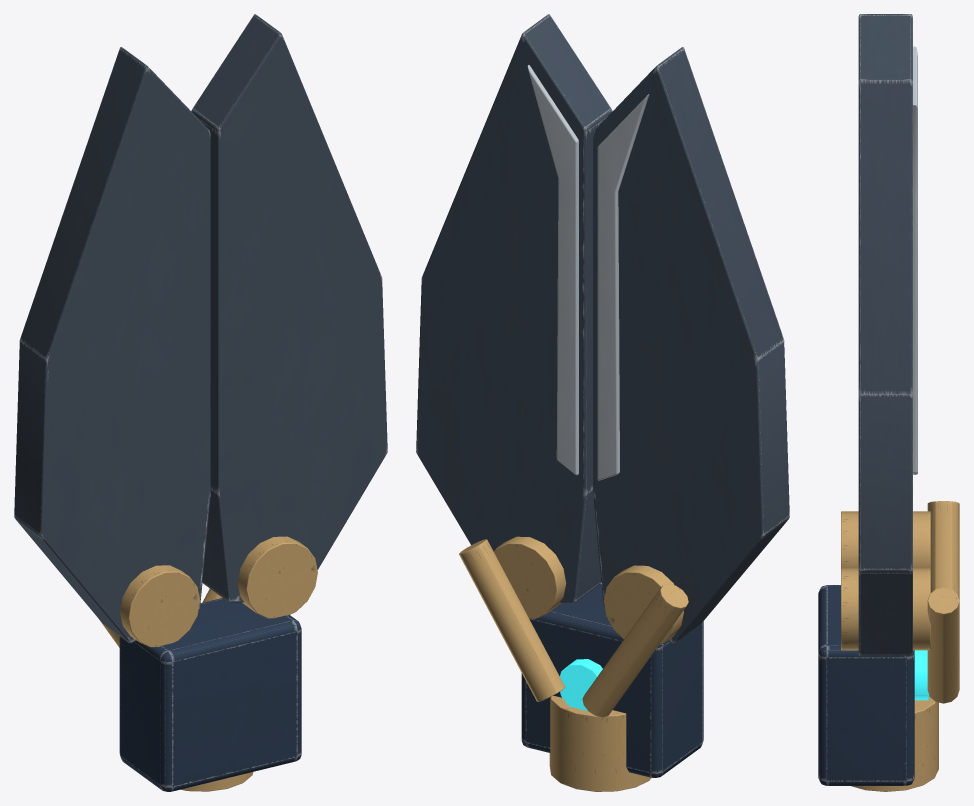
The model's file is broad_cutter.glb.
3 renders of one model, left to right at view 1: azimuth 30°, elevation 25°; view 2: azimuth 150°, elevation 25°; view 3: azimuth 270°, elevation 25°, orthographic.
Visible parts, largest first — view 1: broad_cutter__forged_jaw_neg1, broad_cutter__forged_jaw_1, broad_cutter__saddle, broad_cutter__jaw_axle_1, broad_cutter__jaw_axle_neg1; view 2: broad_cutter__forged_jaw_neg1, broad_cutter__forged_jaw_1, broad_cutter__saddle, broad_cutter__honed_edge_neg1, broad_cutter__honed_edge_1, broad_cutter__power_collar, broad_cutter__drive_link_1, broad_cutter__drive_link_neg1, broad_cutter__jaw_axle_1, broad_cutter__jaw_axle_neg1, broad_cutter__core; view 3: broad_cutter__forged_jaw_1, broad_cutter__saddle, broad_cutter__forged_jaw_neg1, broad_cutter__drive_link_1, broad_cutter__jaw_axle_1, broad_cutter__drive_link_neg1, broad_cutter__power_collar, broad_cutter__jaw_axle_neg1, broad_cutter__honed_edge_1, broad_cutter__core, broad_cutter__honed_edge_neg1.
Boxes of the visible parts, box(x1,y1,x2,y2) form: broad_cutter__forged_jaw_neg1: box(14, 47, 210, 643); broad_cutter__forged_jaw_1: box(191, 14, 387, 602); broad_cutter__saddle: box(119, 598, 301, 791); broad_cutter__jaw_axle_1: box(237, 536, 317, 618); broad_cutter__jaw_axle_neg1: box(120, 565, 200, 647); broad_cutter__forged_jaw_neg1: box(593, 47, 789, 643); broad_cutter__forged_jaw_1: box(416, 14, 612, 602); broad_cutter__saddle: box(521, 584, 703, 777); broad_cutter__honed_edge_neg1: box(597, 94, 649, 480); broad_cutter__honed_edge_1: box(527, 65, 578, 475); broad_cutter__power_collar: box(549, 695, 651, 791); broad_cutter__drive_link_1: box(459, 539, 564, 701); broad_cutter__drive_link_neg1: box(582, 584, 688, 717); broad_cutter__jaw_axle_1: box(494, 536, 566, 618); broad_cutter__jaw_axle_neg1: box(603, 565, 683, 644); broad_cutter__core: box(560, 659, 602, 710); broad_cutter__forged_jaw_1: box(858, 79, 912, 655); broad_cutter__saddle: box(818, 585, 914, 785); broad_cutter__forged_jaw_neg1: box(858, 14, 912, 80); broad_cutter__drive_link_1: box(927, 587, 959, 703); broad_cutter__jaw_axle_1: box(841, 568, 930, 650); broad_cutter__drive_link_neg1: box(927, 501, 959, 600); broad_cutter__power_collar: box(851, 695, 938, 791); broad_cutter__jaw_axle_neg1: box(841, 511, 930, 568); broad_cutter__honed_edge_1: box(913, 104, 917, 474); broad_cutter__core: box(914, 650, 928, 700); broad_cutter__honed_edge_neg1: box(913, 46, 917, 109).
Size of the model in its own units: 0.6198 by 1.24 by 0.22.
Materials: 2 (2 with a texture image).
